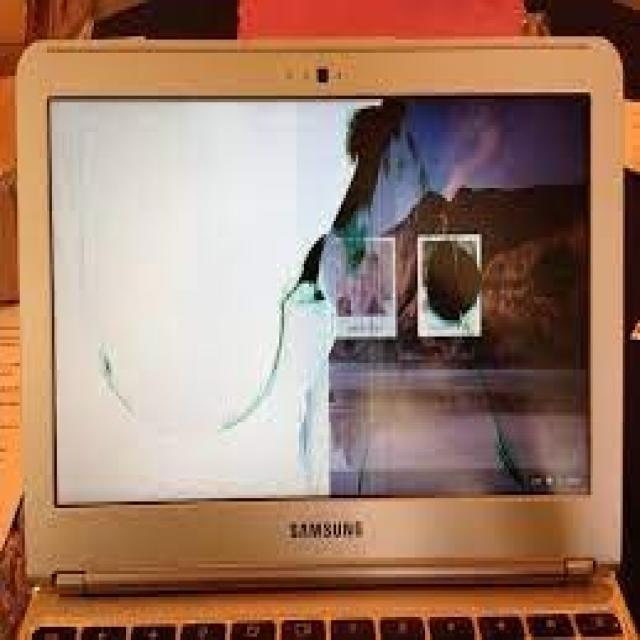Screen cracks: (218, 96, 410, 512)
